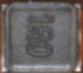Induktor: (0, 0, 80, 71)
